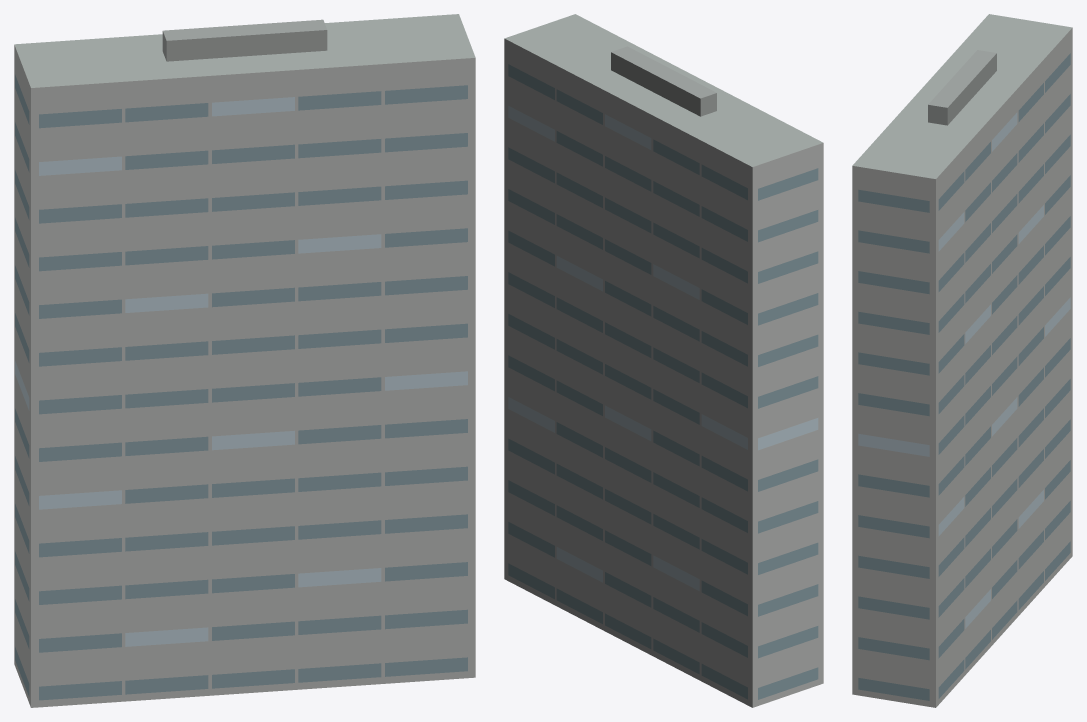
The model's file is fallback-jamsil-els-128.glb.
The picture shows the model from 3 angles, left to right: view 1: azimuth 30°, elevation 25°; view 2: azimuth 150°, elevation 25°; view 3: azimuth 270°, elevation 25°; orthographic projection. The views are drawn at different scales.
Visible parts, largest first — view 1: fallback-jamsil-els-128; view 2: fallback-jamsil-els-128; view 3: fallback-jamsil-els-128.
Part boxes in pixels (bbox=[...]): fallback-jamsil-els-128: bbox=[14, 14, 475, 707]; fallback-jamsil-els-128: bbox=[504, 14, 823, 707]; fallback-jamsil-els-128: bbox=[852, 14, 1072, 707].
Size of the model in its own units: 47.98 by 74 by 27.05.
